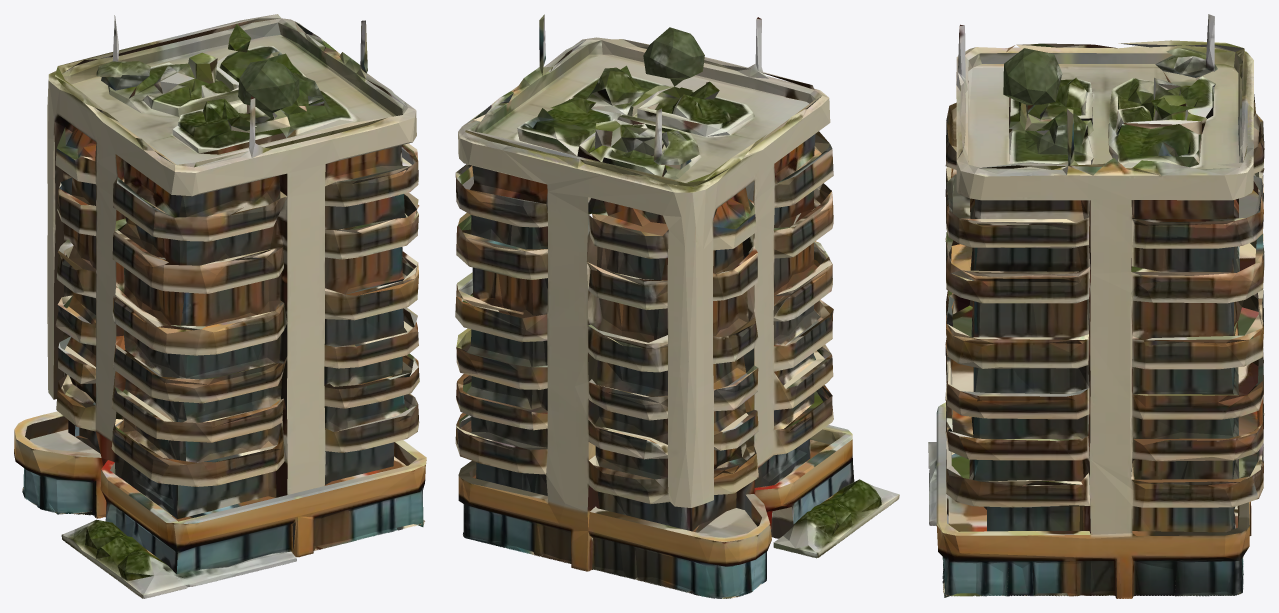
File: residential.glb
3 views of the same model, side by side, from view 1: azimuth 30°, elevation 25°; view 2: azimuth 150°, elevation 25°; view 3: azimuth 270°, elevation 25° (orthographic). The views are drawn at different scales.
Parts seen in each view (by area): view 1: figure; view 2: figure; view 3: figure.
Part boxes in pixels (left/top/right/bottom): figure: left=14, top=14, right=426, bottom=598; figure: left=455, top=14, right=899, bottom=598; figure: left=928, top=14, right=1264, bottom=598.
Size of the model in its own units: 0.6766 by 1 by 0.6216.
Materials: 1 (1 with a texture image).
